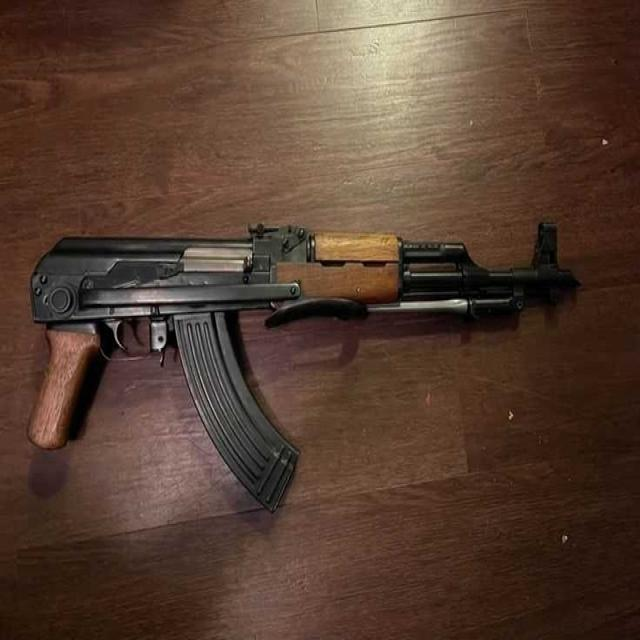ak: (22, 210, 585, 522)
